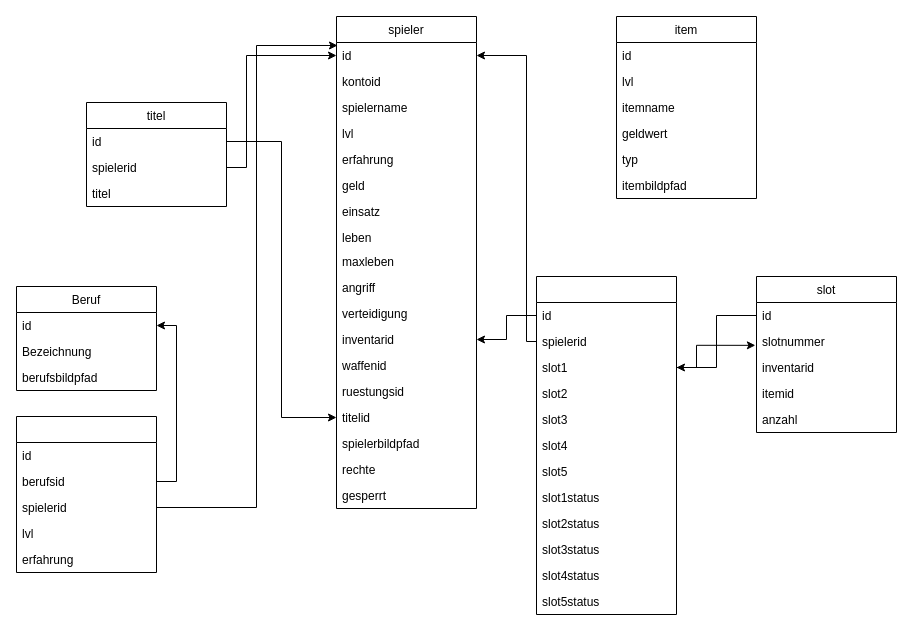
This 913x631 diagram has some shape labels left out. Here are the shapes that lost their labels. From the top down, the box of each, then its label:
(536, 276, 676, 614): inventar
(16, 416, 156, 572): Berufsfortschritt
